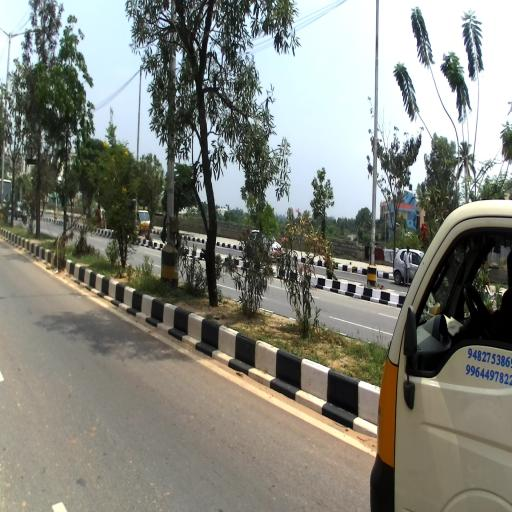street_light_0: (8, 26, 42, 42)
